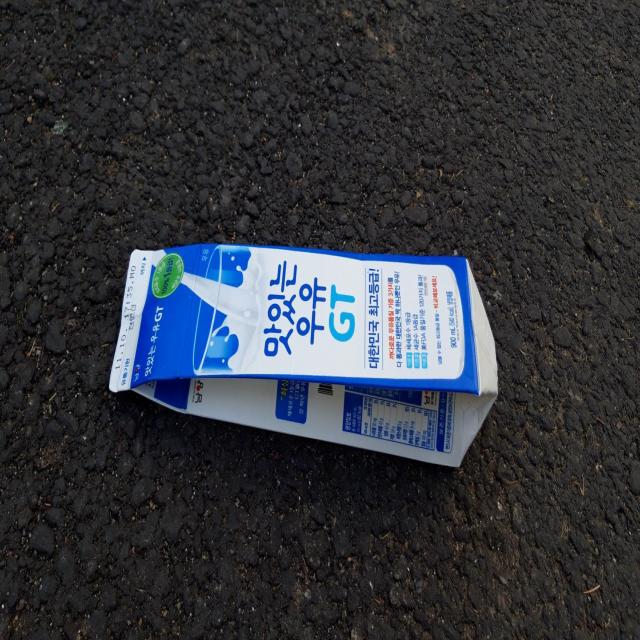paperpack: (109, 242, 499, 467)
